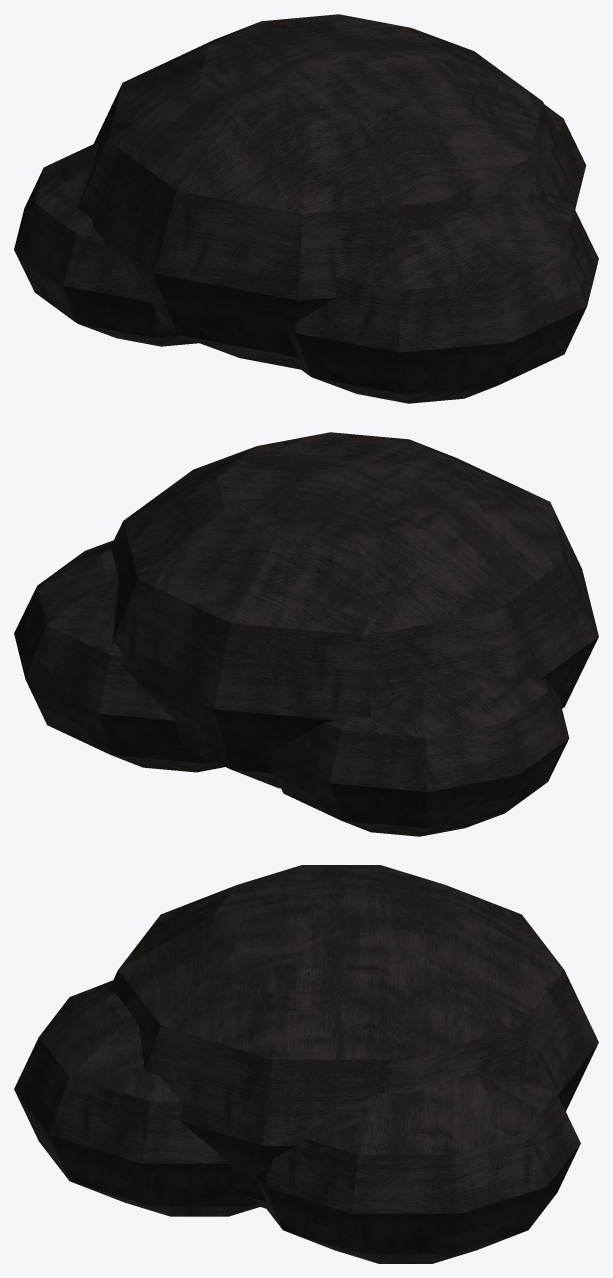
Rendered from prop_muck_heap.glb.
The picture shows the model from 3 angles, top to bottom: view 1: azimuth 30°, elevation 25°; view 2: azimuth 150°, elevation 25°; view 3: azimuth 270°, elevation 25°; orthographic projection.
Visible parts, largest first — view 1: prop_muck_heap; view 2: prop_muck_heap; view 3: prop_muck_heap.
Part boxes in pixels (<box>): prop_muck_heap: <box>14,14,598,403</box>; prop_muck_heap: <box>14,432,598,836</box>; prop_muck_heap: <box>14,865,598,1263</box>.
Size of the model in its own units: 2.52 by 1.36 by 2.5.
1 material, 1 textured.
